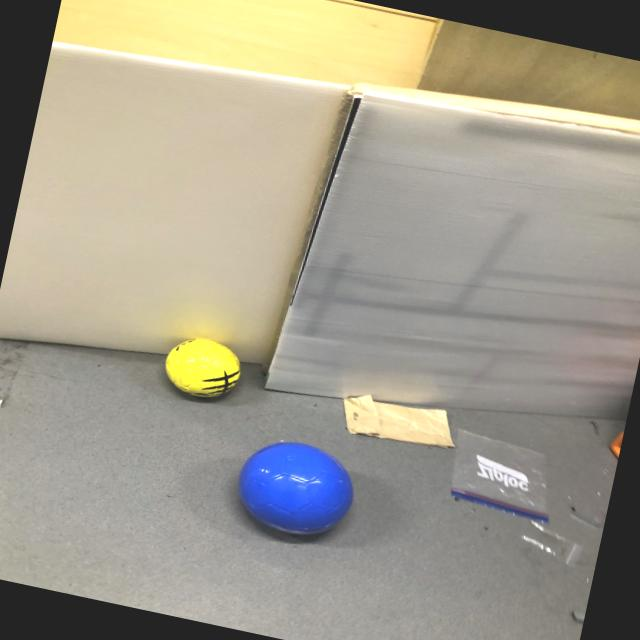blue_ball: (227, 429, 365, 553)
